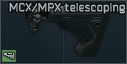MCX telescoping stock: (0, 0, 127, 64)
